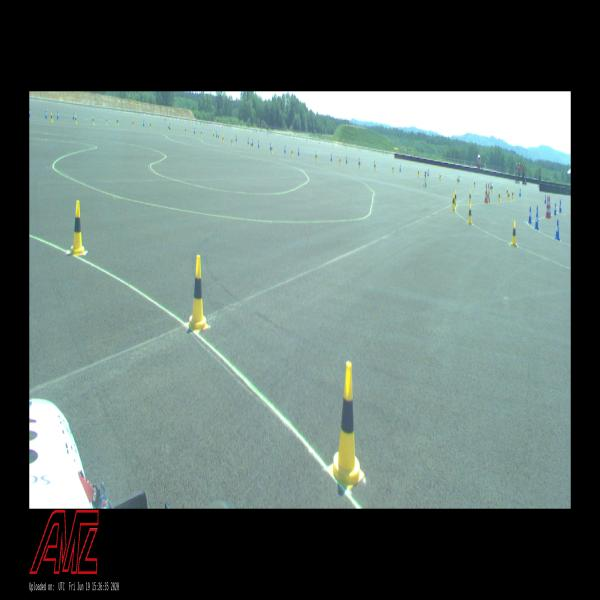blue_cone: (555, 219, 560, 241), (535, 211, 539, 230), (528, 206, 532, 224), (535, 205, 539, 222), (554, 203, 557, 215), (559, 200, 562, 209), (559, 202, 561, 213), (29, 108, 31, 118), (46, 110, 48, 119), (57, 111, 59, 119), (72, 112, 74, 120), (544, 195, 546, 203), (519, 189, 521, 196), (490, 182, 491, 189)
large_orange_cone: (545, 196, 550, 218), (484, 183, 488, 202), (549, 196, 551, 218), (488, 183, 490, 203)
yellow_cone: (329, 361, 364, 490), (187, 255, 209, 331), (70, 200, 84, 256), (510, 221, 518, 247), (467, 203, 473, 224), (451, 193, 455, 211), (468, 190, 472, 204), (511, 189, 514, 200), (455, 190, 457, 205), (488, 190, 490, 203), (508, 190, 510, 201), (498, 191, 500, 202), (51, 113, 53, 122), (75, 115, 77, 124), (92, 116, 94, 125), (271, 144, 273, 153), (291, 148, 293, 157), (358, 159, 360, 168), (506, 188, 508, 197), (315, 152, 317, 160), (339, 157, 341, 165), (392, 165, 394, 173), (474, 180, 476, 188), (491, 184, 493, 192), (117, 118, 119, 126), (374, 163, 376, 170), (106, 117, 107, 124)
